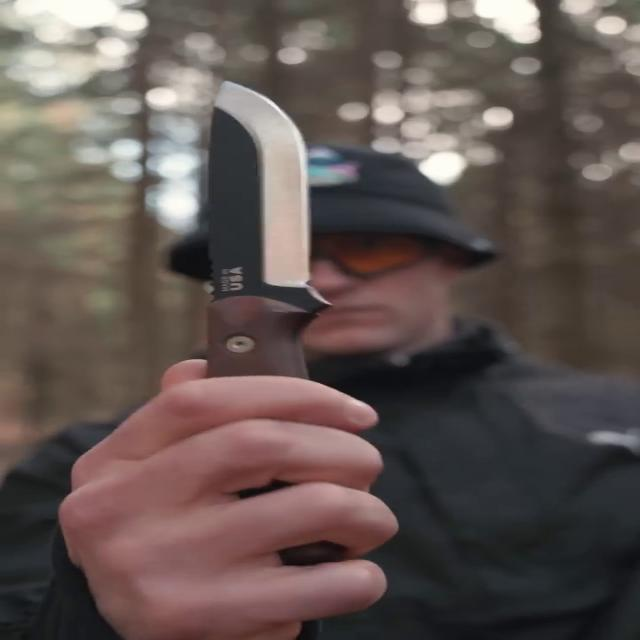Knife: (93, 56, 427, 632)
